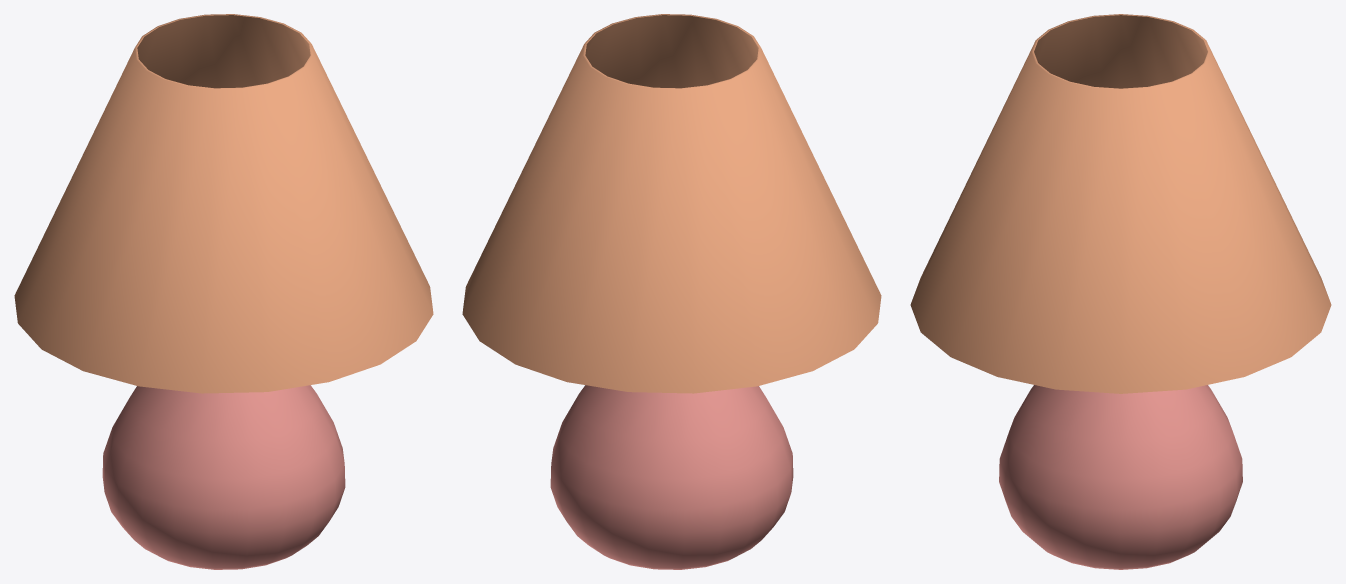
The model's file is lamp.fbx.
3 renders of one model, left to right at view 1: azimuth 30°, elevation 25°; view 2: azimuth 150°, elevation 25°; view 3: azimuth 270°, elevation 25°, orthographic.
Visible parts, largest first — view 1: Circle.011; view 2: Circle.011; view 3: Circle.011.
Boxes of the visible parts, left/top/right/bottom form: Circle.011: left=14, top=14, right=433, bottom=569; Circle.011: left=462, top=14, right=881, bottom=569; Circle.011: left=910, top=14, right=1331, bottom=569.
Size of the model in its own units: 1.69 by 2.14 by 1.69.
